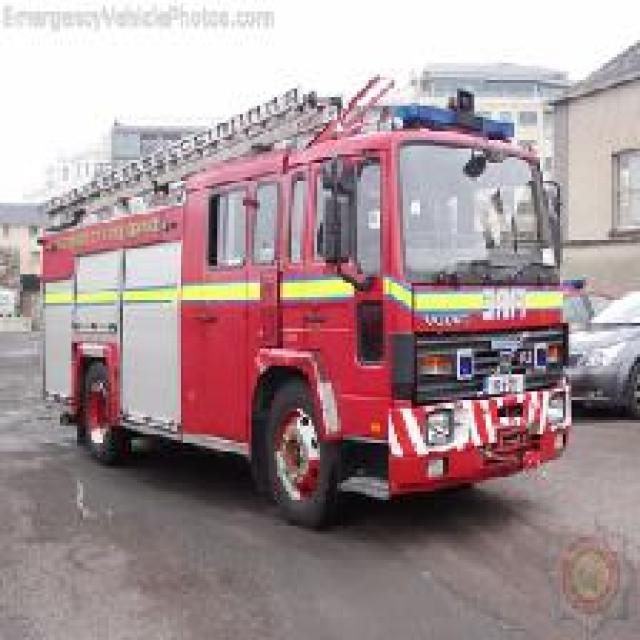emergency: (31, 71, 577, 528)
